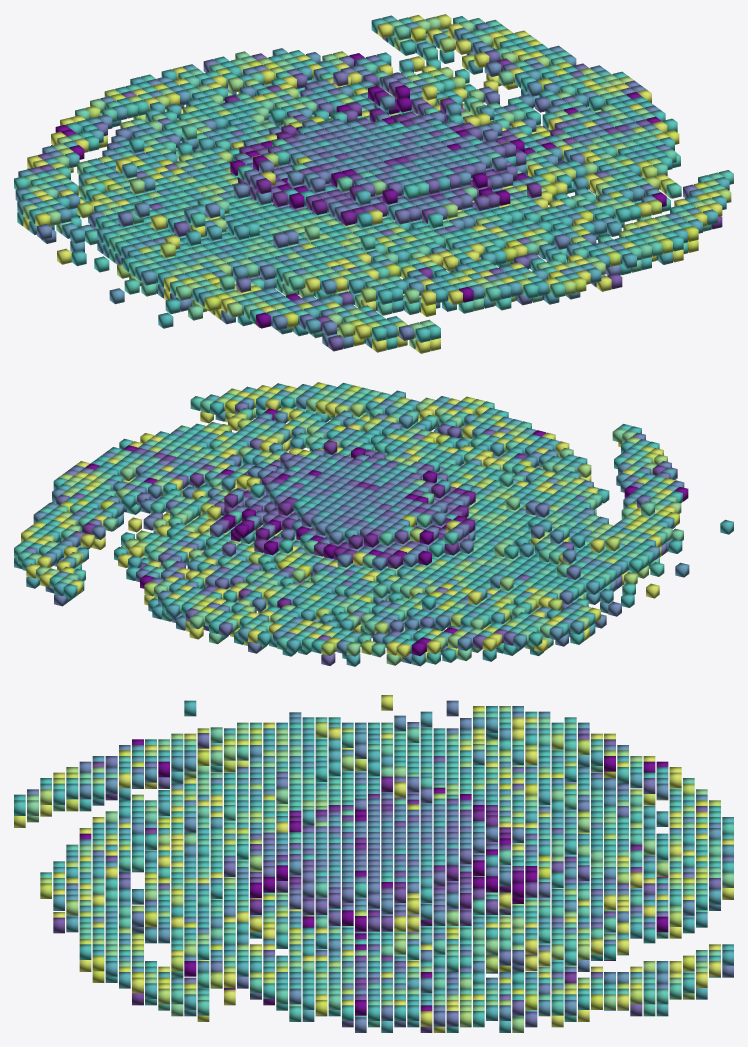
File: system_mass_F.gltf
3 views of the same model, one above another, from view 1: azimuth 30°, elevation 25°; view 2: azimuth 150°, elevation 25°; view 3: azimuth 270°, elevation 25° (orthographic). The views are drawn at different scales.
Visible parts, largest first — view 1: Renderer Node; view 2: Renderer Node; view 3: Renderer Node.
Part boxes in pixels (x1,y1,x2,y2): Renderer Node: (14,14,733,353); Renderer Node: (14,382,733,666); Renderer Node: (14,695,733,1032).
Bounding box in the file's own units: 74112 × 7552 × 70272.
